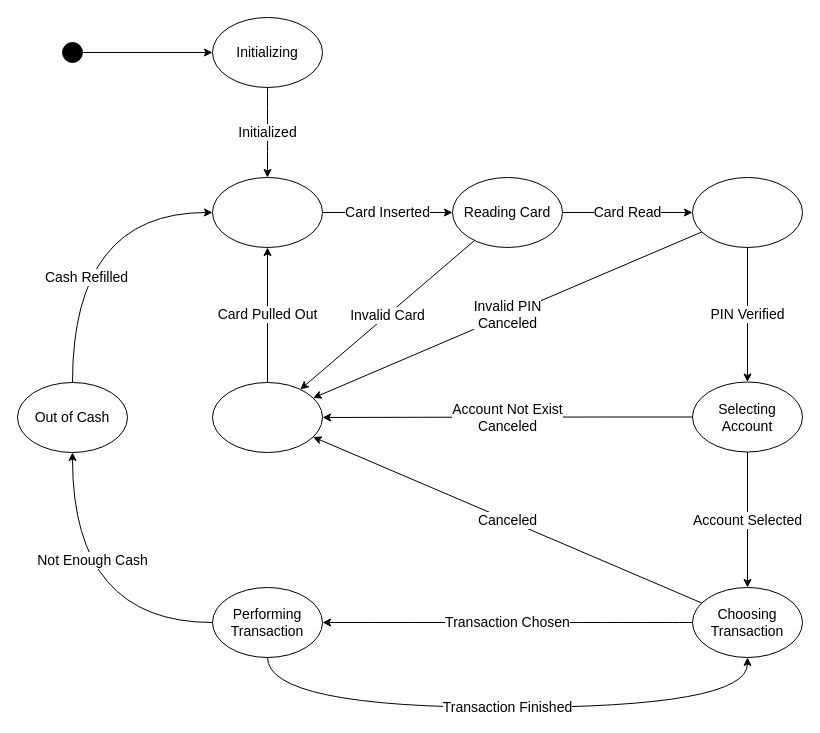
Image size: 820x733. Some labels were removed from this diagram. The centre of each missing label's shape, as x and y in pixels:
"Authenticate" goes at pixel 747 212.
"Ejecting Card" goes at pixel 267 417.
"Idle" goes at pixel 267 212.
